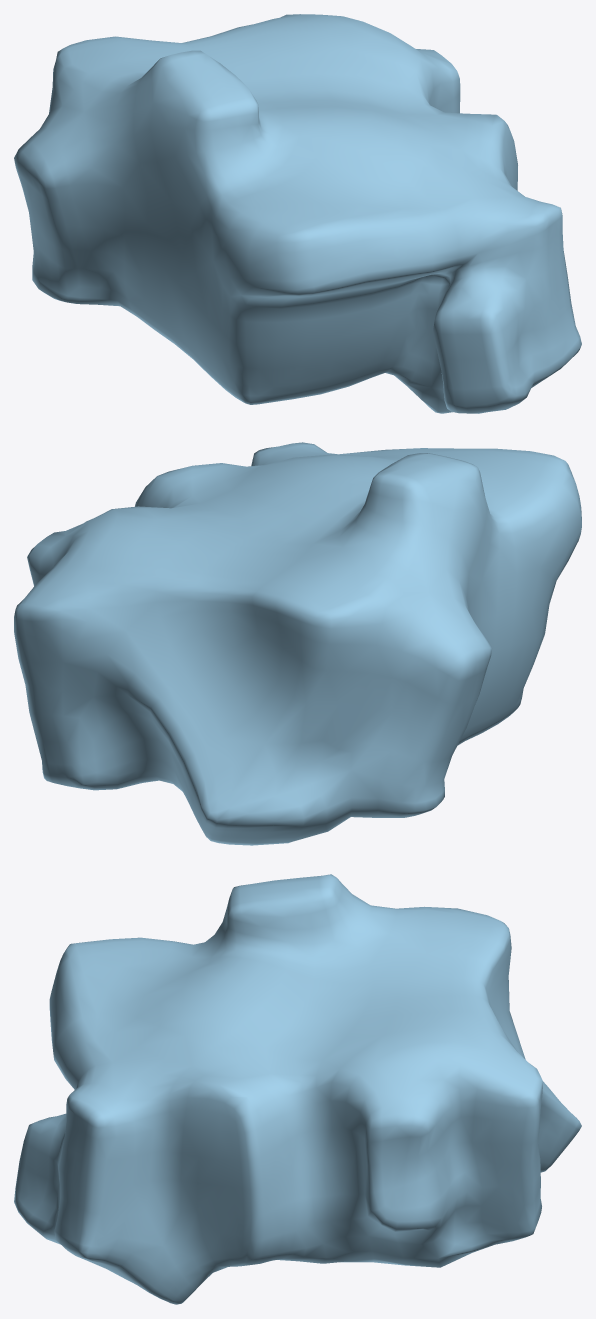
Rendered from Land1.fbx.
3 views of the same model, one above another, from view 1: azimuth 30°, elevation 25°; view 2: azimuth 150°, elevation 25°; view 3: azimuth 270°, elevation 25° (orthographic). The views are drawn at different scales.
Visible parts, largest first — view 1: Retopo_Iceburg 1.001; view 2: Retopo_Iceburg 1.001; view 3: Retopo_Iceburg 1.001.
Boxes of the visible parts, x1,y1,x2,y2 form: Retopo_Iceburg 1.001: [14, 14, 581, 413]; Retopo_Iceburg 1.001: [14, 442, 581, 845]; Retopo_Iceburg 1.001: [14, 874, 581, 1304].
Bounding box in the file's own units: 192 × 145 × 234.
